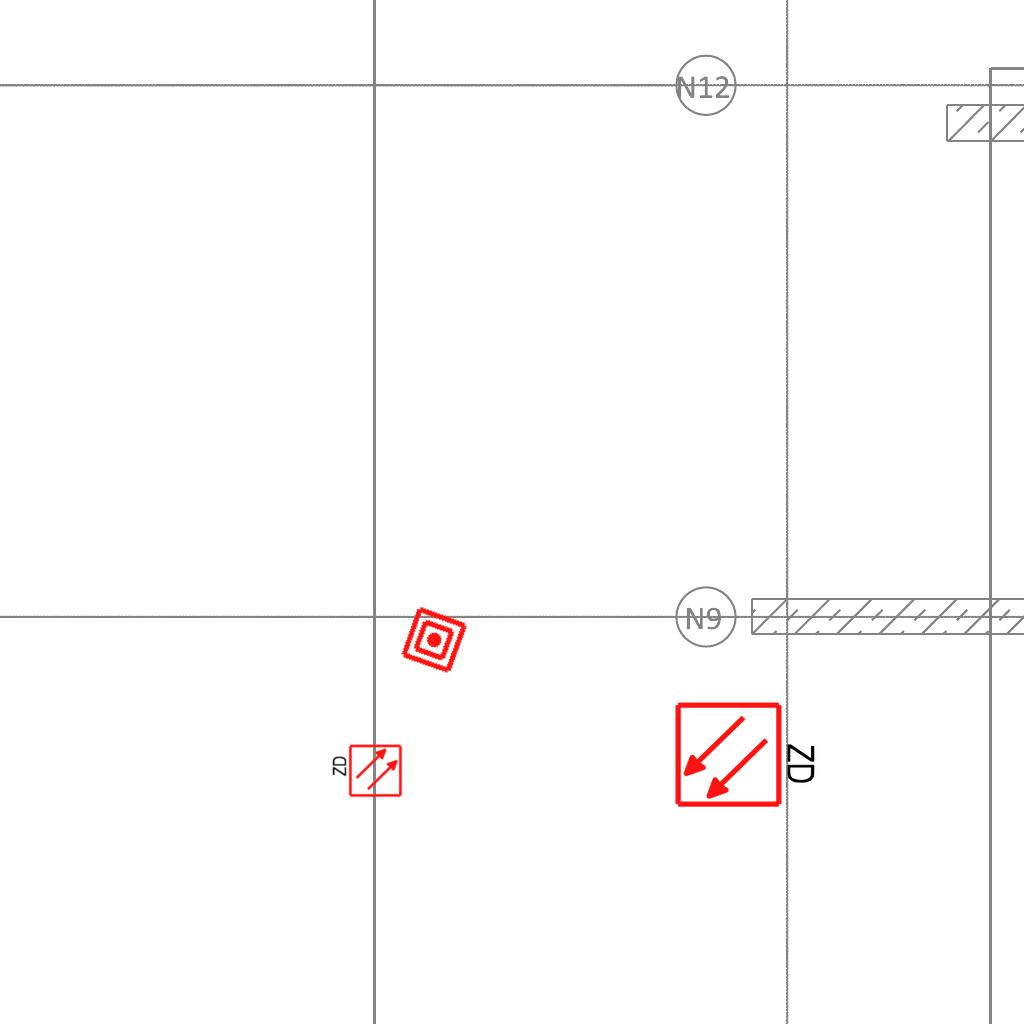NAM-Nichtautomatischer_Melder: (398, 604, 470, 676)
ZD_Melder_in_Zwischendecke_mit_Revisionsoeffnung_mind_40_x_40_cm: (673, 696, 822, 810), (329, 743, 403, 800)
